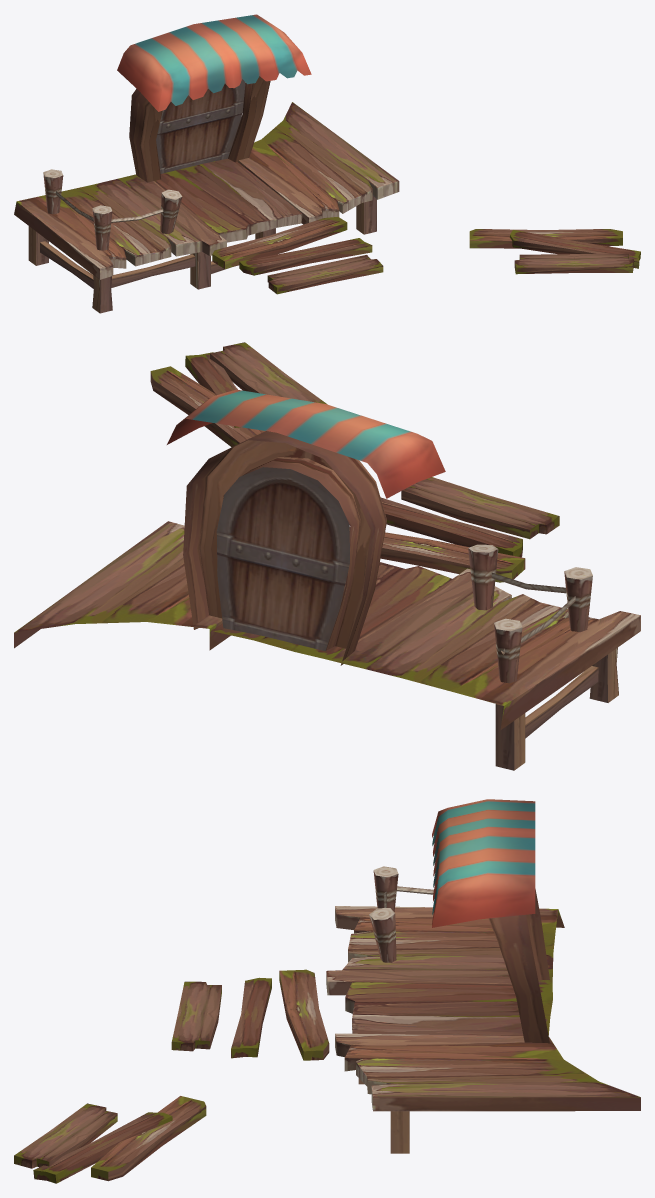
The model's file is Map_05_door01.FBX.
3 views of the same model, one above another, from view 1: azimuth 30°, elevation 25°; view 2: azimuth 150°, elevation 25°; view 3: azimuth 270°, elevation 25° (orthographic). The views are drawn at different scales.
Parts seen in each view (by area): view 1: Map_05_door01; view 2: Map_05_door01; view 3: Map_05_door01.
Boxes of the visible parts, box(x1,y1,x2,y2) form: Map_05_door01: box(14, 14, 640, 313); Map_05_door01: box(14, 342, 640, 770); Map_05_door01: box(14, 799, 640, 1183).
Bounding box in the file's own units: 839 × 842 × 366.
